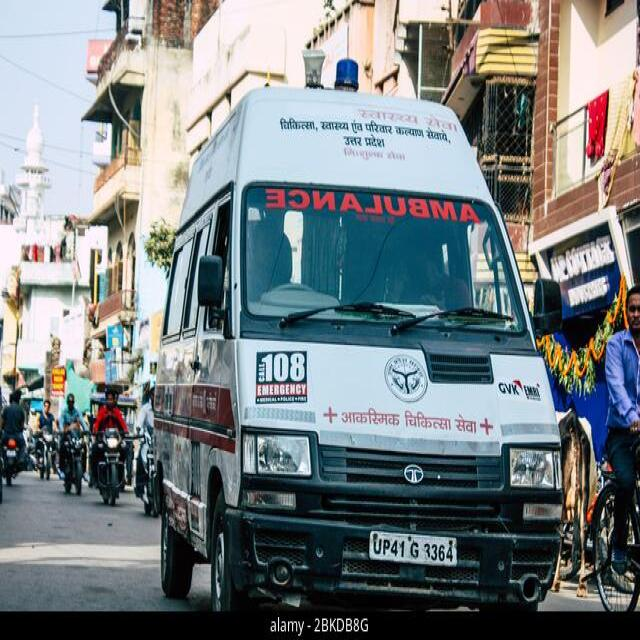emergency: (155, 59, 561, 609)
